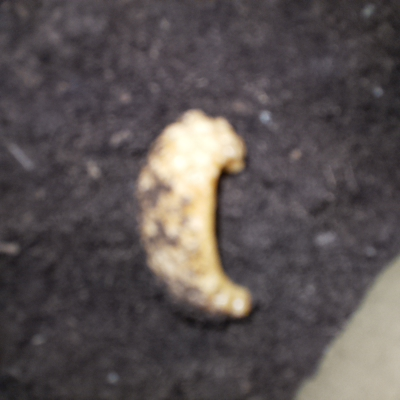eggs: (130, 104, 272, 329)
